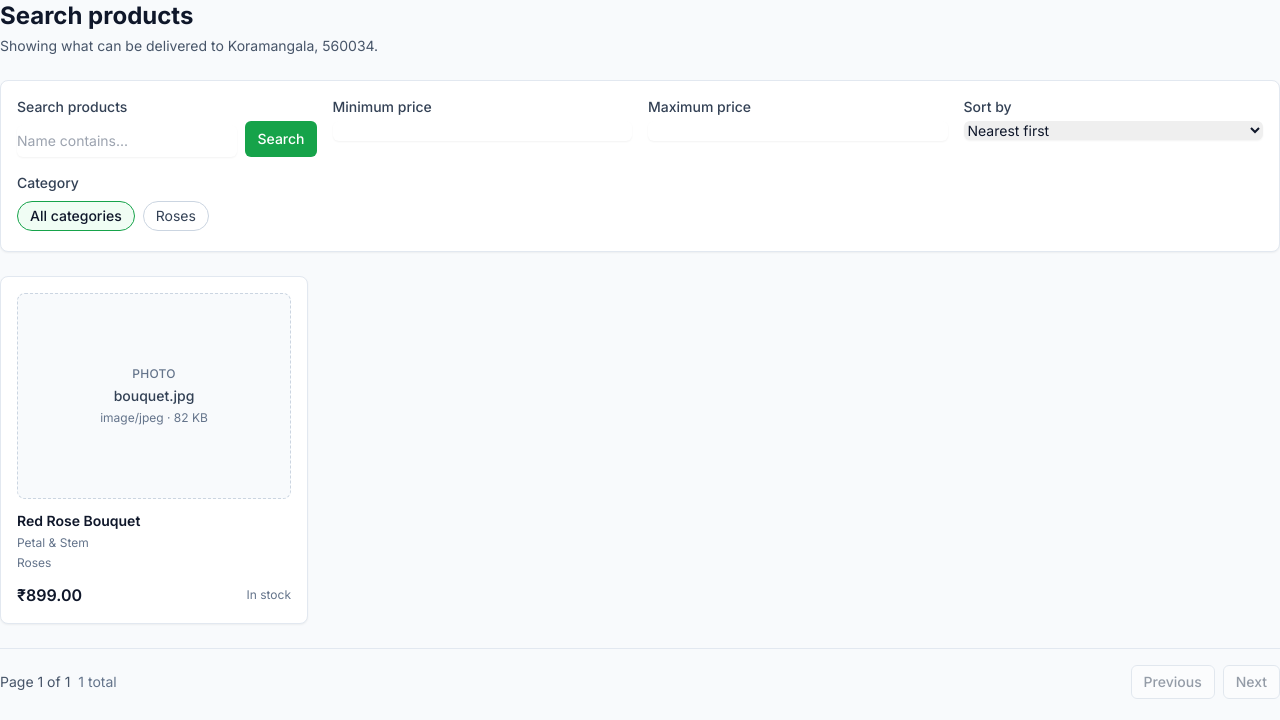
Test: SearchPage › shows a product opened from the results over the results
Click the link "Red Rose Bouquet".
click(79, 520)  # box [17,512,140,528]
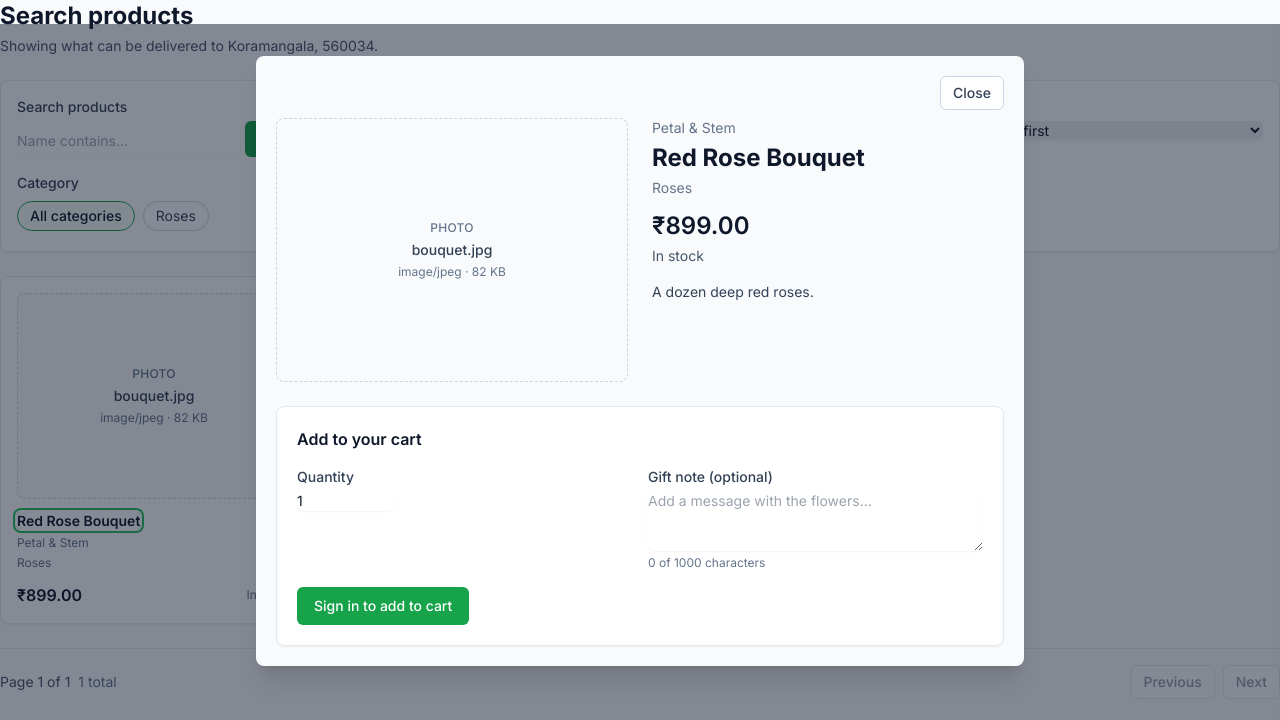
Expected: the heading "Search products" is shown, [0,1,193,30]
Expected: the dialog is shown
